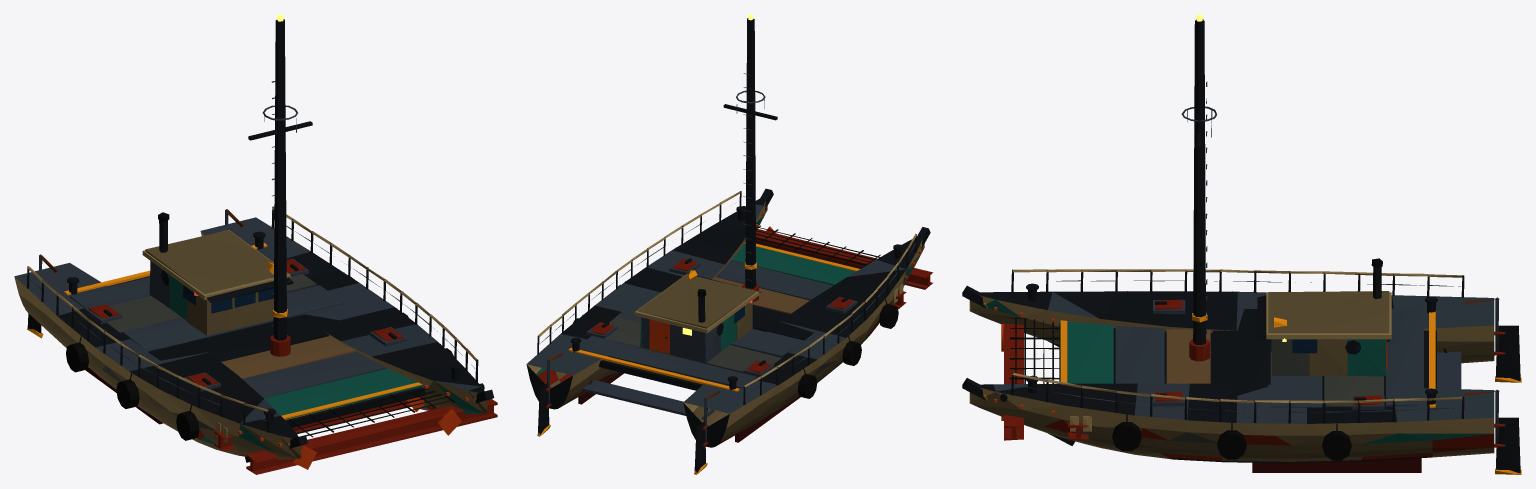
The model's file is tb_ironwake.three-web-toon.lod50.glb.
3 views of the same model, side by side, from view 1: azimuth 30°, elevation 25°; view 2: azimuth 150°, elevation 25°; view 3: azimuth 270°, elevation 25° (orthographic). The views are drawn at different scales.
Parts seen in each view (by area): view 1: ironwake_hulls_lod, ironwake_deck_lod, ironwake_wheelhouse_lod, ironwake_mast_lod; view 2: ironwake_hulls_lod, ironwake_deck_lod, ironwake_wheelhouse_lod, ironwake_mast_lod, ironwake_rudder_port_lod, ironwake_rudder_starboard_lod; view 3: ironwake_hulls_lod, ironwake_deck_lod, ironwake_wheelhouse_lod, ironwake_mast_lod, ironwake_rudder_starboard_lod, ironwake_rudder_port_lod.
Part boxes in pixels (x1,y1,x2,y2): ironwake_hulls_lod: (14,217,494,462); ironwake_deck_lod: (27,206,497,474); ironwake_wheelhouse_lod: (142,212,293,335); ironwake_mast_lod: (248,14,312,356); ironwake_hulls_lod: (526,188,930,447); ironwake_deck_lod: (537,191,933,419); ironwake_wheelhouse_lod: (634,270,760,363); ironwake_mast_lod: (723,14,777,301); ironwake_rudder_port_lod: (694,391,719,474); ironwake_rudder_starboard_lod: (537,352,562,436); ironwake_hulls_lod: (962,283,1494,472); ironwake_deck_lod: (1001,269,1464,440); ironwake_wheelhouse_lod: (1257,258,1391,376); ironwake_mast_lod: (1181,14,1216,361); ironwake_rudder_starboard_lod: (1464,389,1521,474); ironwake_rudder_port_lod: (1464,297,1521,382).
Bounding box in the file's own units: 8.18 × 11.28 × 13.85.
